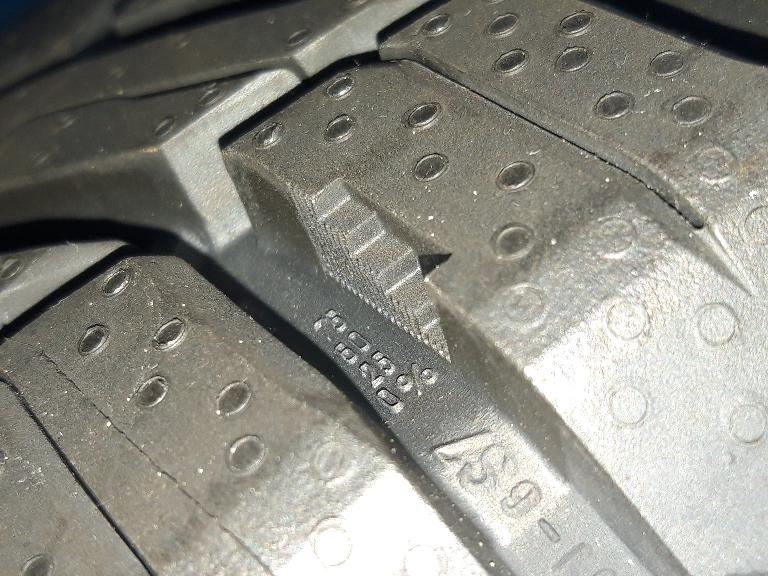temoin:100: (281, 169, 461, 369)
